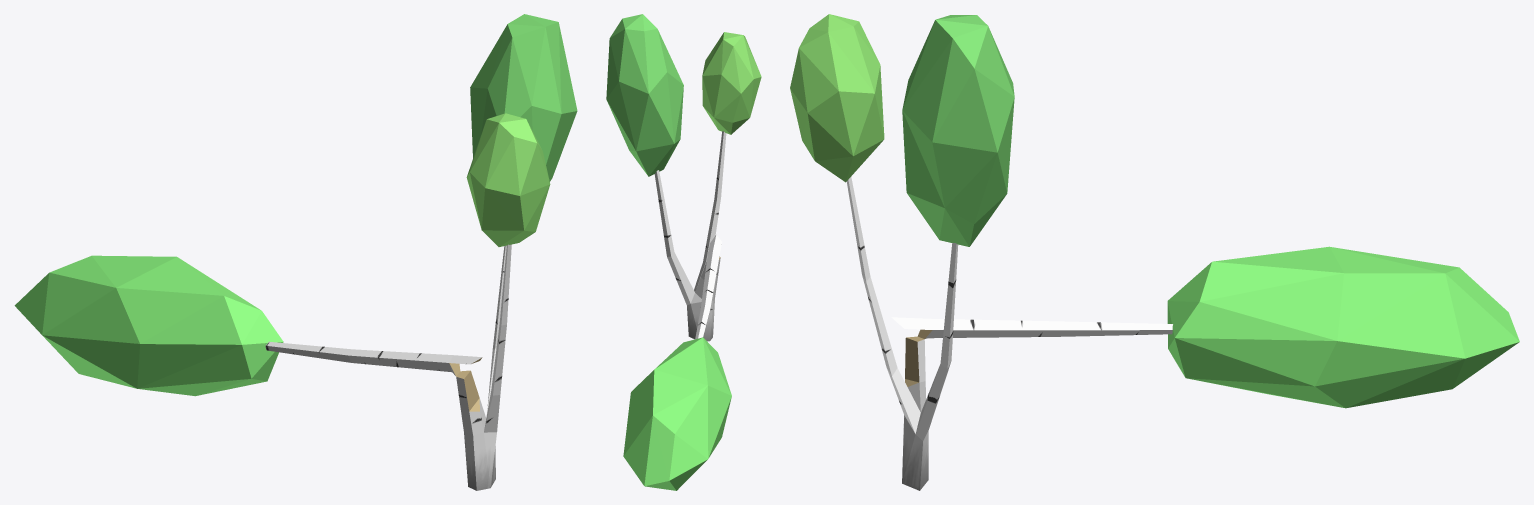
Rendered from Birch_Tree_crk_m_03_LOD.fbx.
3 views of the same model, side by side, from view 1: azimuth 30°, elevation 25°; view 2: azimuth 150°, elevation 25°; view 3: azimuth 270°, elevation 25° (orthographic). The views are drawn at different scales.
Parts seen in each view (by area): view 1: Birch_Tree_crk_m_03_LOD0; view 2: Birch_Tree_crk_m_03_LOD0; view 3: Birch_Tree_crk_m_03_LOD0.
Boxes of the visible parts, left/top/right/bottom form: Birch_Tree_crk_m_03_LOD0: left=14, top=14, right=577, bottom=490; Birch_Tree_crk_m_03_LOD0: left=606, top=14, right=761, bottom=490; Birch_Tree_crk_m_03_LOD0: left=790, top=14, right=1519, bottom=490.
Size of what is drawn, in the model's own units: 421 by 539 by 702.
